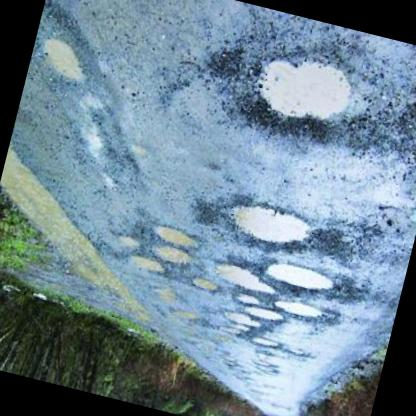pothole: (234, 42, 358, 150), (223, 198, 316, 256), (32, 36, 92, 90), (260, 259, 338, 298), (147, 222, 201, 254), (270, 296, 324, 324), (240, 302, 286, 326), (152, 244, 191, 268), (125, 255, 165, 278), (221, 310, 262, 330), (188, 276, 221, 297), (114, 235, 142, 254), (250, 335, 279, 352)
